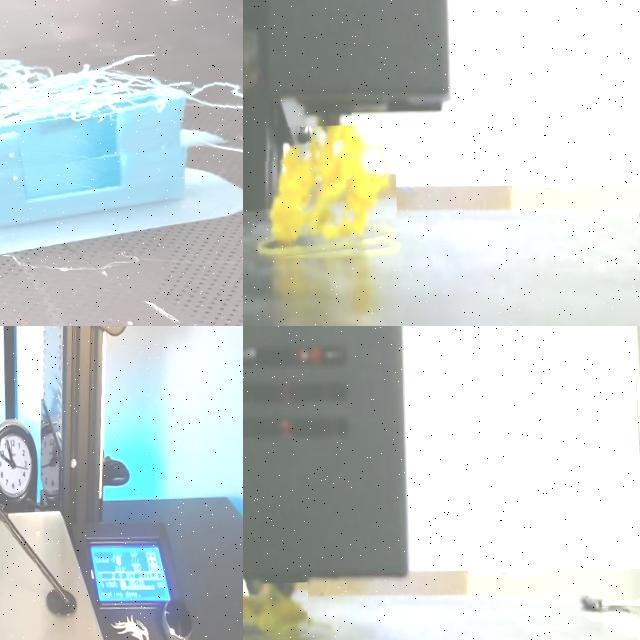spaghetti: (0, 59, 243, 139), (258, 125, 397, 257), (243, 583, 308, 637)
